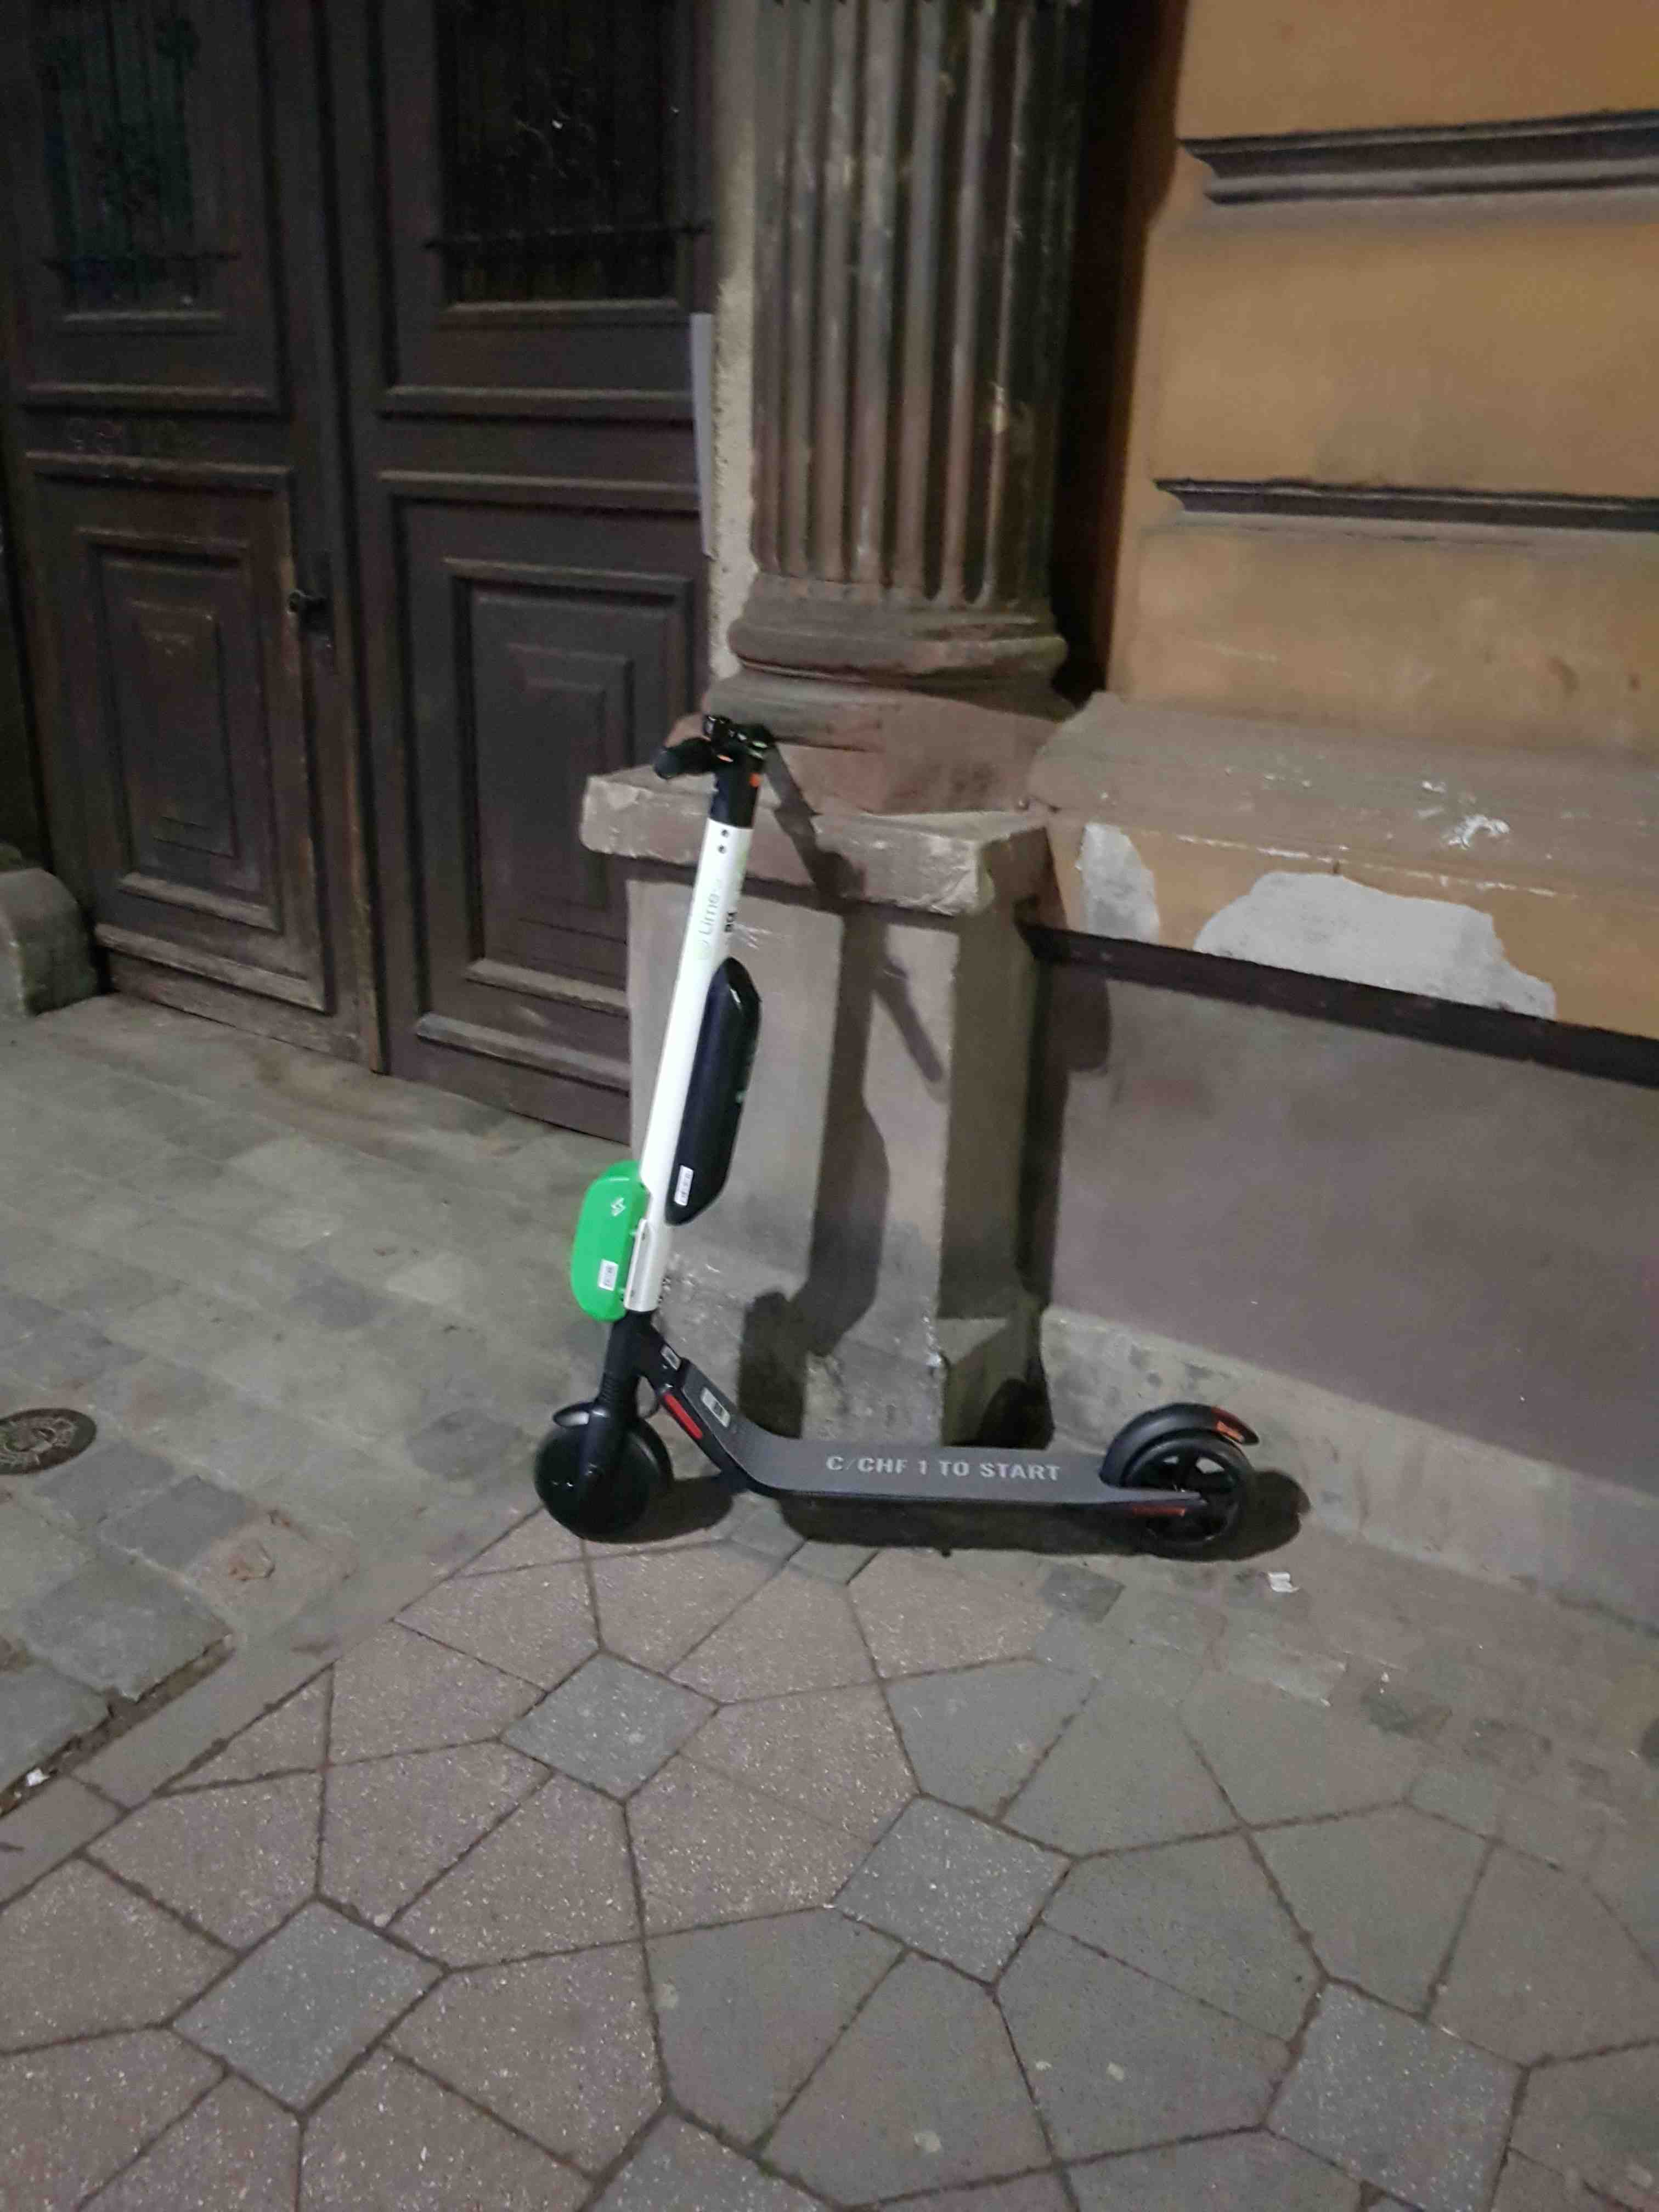scooter: (521, 695, 1297, 1581)
